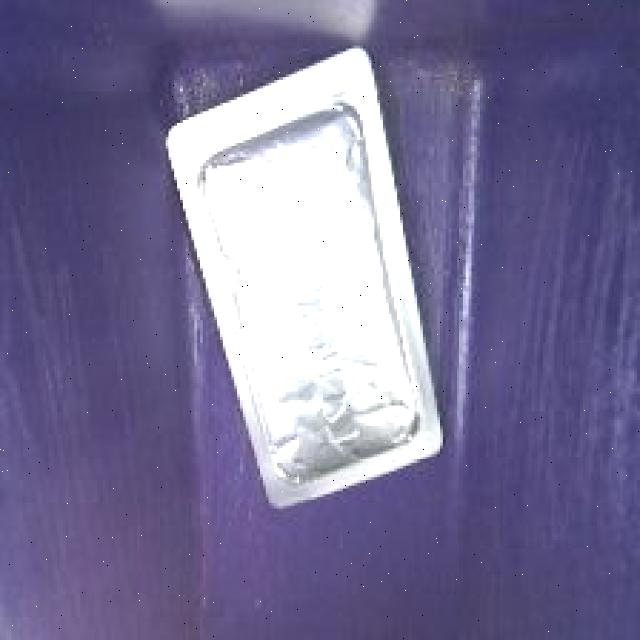med_plate: (156, 30, 457, 524)
